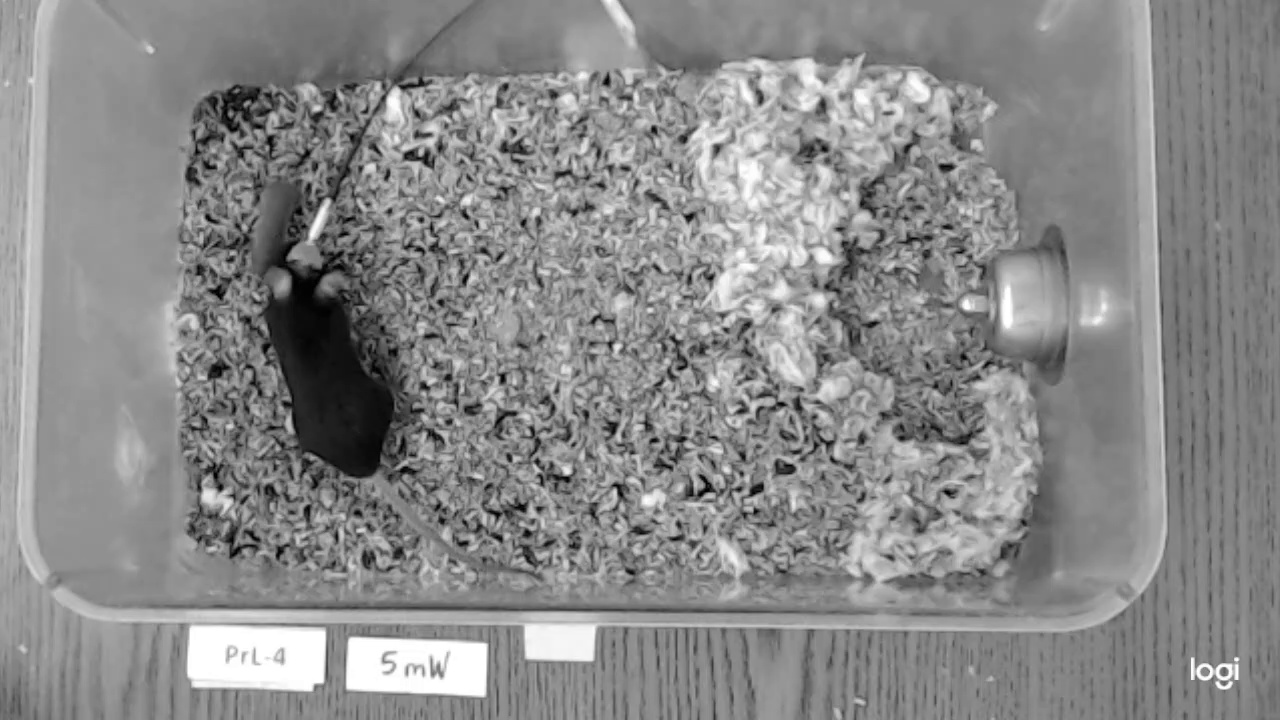parent-mice: (264, 239, 393, 475)
